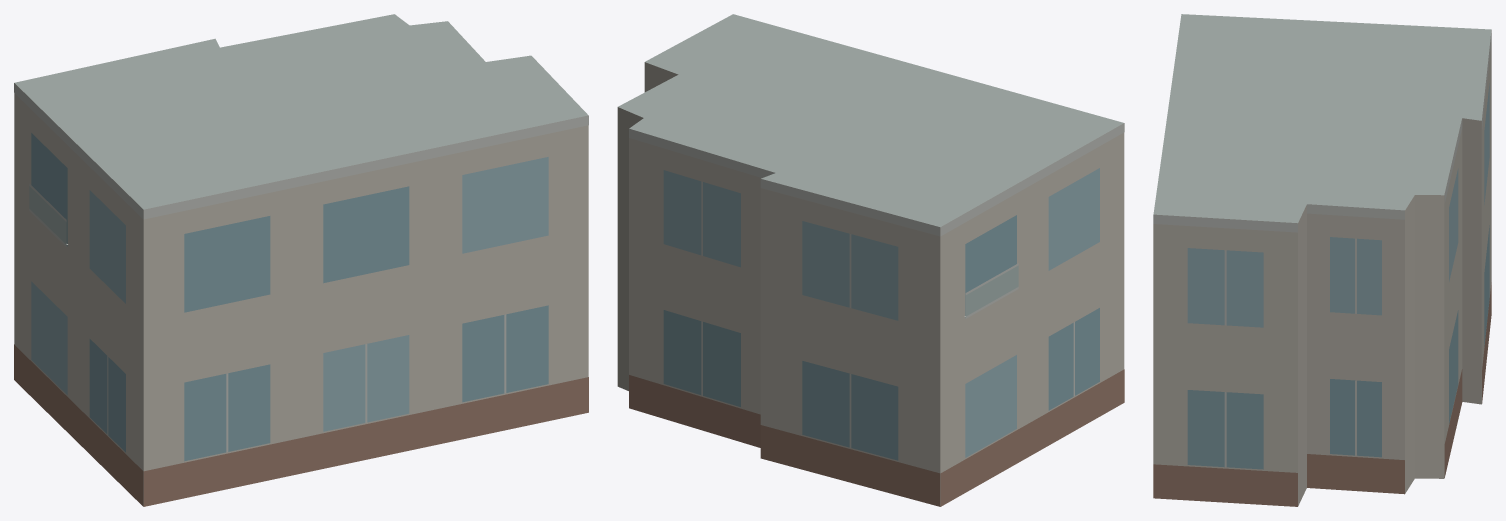
Rendered from survey-upis-32492171.glb.
The picture shows the model from 3 angles, left to right: view 1: azimuth 30°, elevation 25°; view 2: azimuth 150°, elevation 25°; view 3: azimuth 270°, elevation 25°; orthographic projection. The views are drawn at different scales.
Visible parts, largest first — view 1: survey-upis-32492171.tmp; view 2: survey-upis-32492171.tmp; view 3: survey-upis-32492171.tmp.
Part boxes in pixels (bbox=[...]): survey-upis-32492171.tmp: bbox=[14, 14, 588, 506]; survey-upis-32492171.tmp: bbox=[617, 14, 1124, 506]; survey-upis-32492171.tmp: bbox=[1153, 14, 1491, 506].
Size of the model in its own units: 11.65 by 7.36 by 7.96.
